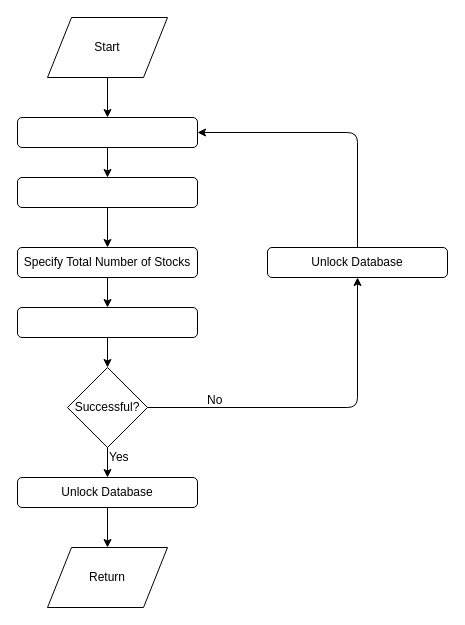
This 465x625 diagram has some shape labels left out. Here are the shapes that lost their labels. From the top down, the centre of each, then its label:
At (x=107, y=132): "Specify Stock Name".
At (x=107, y=192): "Specify Stock Base Price".
At (x=107, y=322): "Lock Database and Execute Query".
